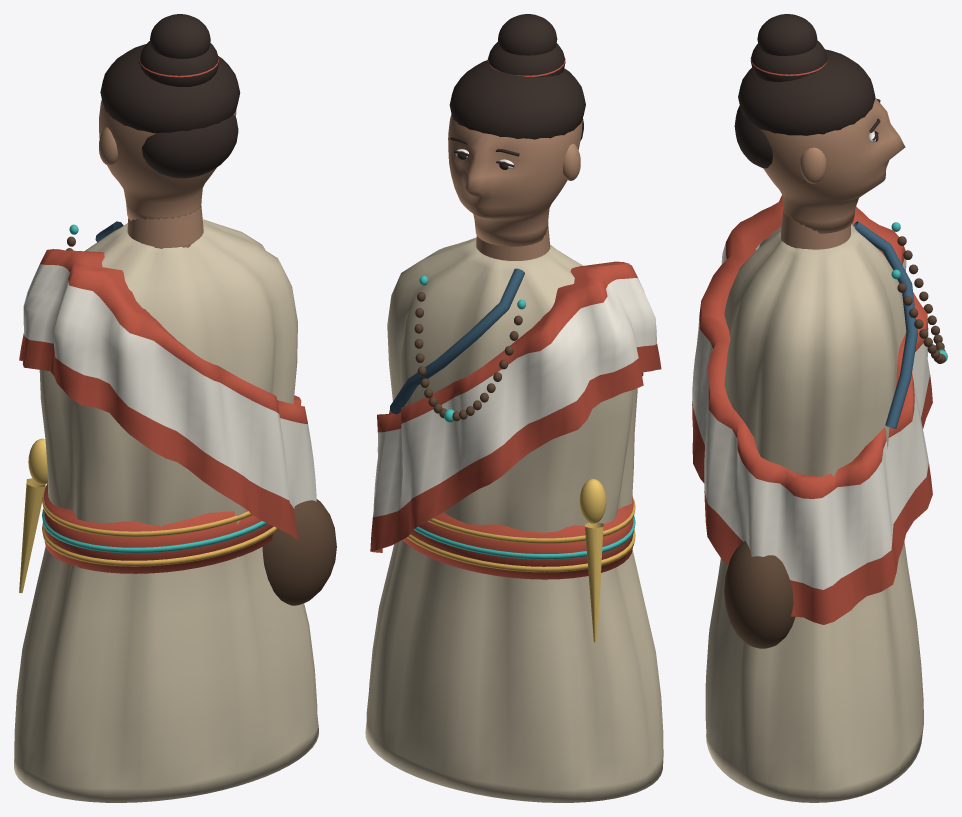
Rendered from Pilgrim.fbx.
3 views of the same model, side by side, from view 1: azimuth 30°, elevation 25°; view 2: azimuth 150°, elevation 25°; view 3: azimuth 270°, elevation 25° (orthographic). The views are drawn at different scales.
Visible parts, largest first — view 1: Pilgrim; view 2: Pilgrim; view 3: Pilgrim.
Boxes of the visible parts, box(x1,y1,x2,y2) form: Pilgrim: box(14, 14, 336, 802); Pilgrim: box(365, 14, 663, 802); Pilgrim: box(692, 14, 947, 802).
Bounding box in the file's own units: 47.76 × 38.32 × 119.
